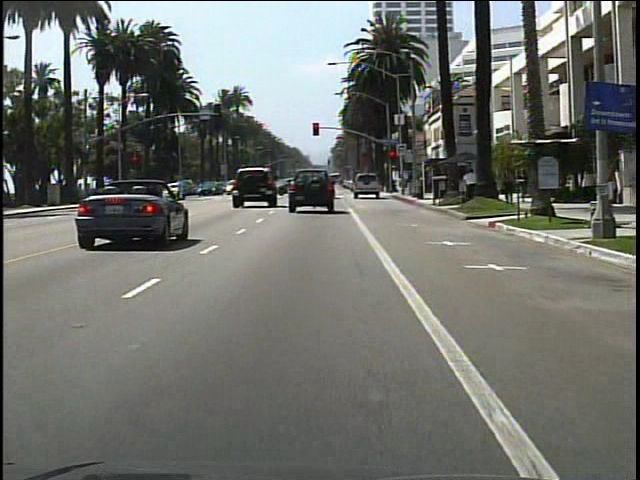person: (461, 165, 482, 204), (500, 164, 515, 208)
